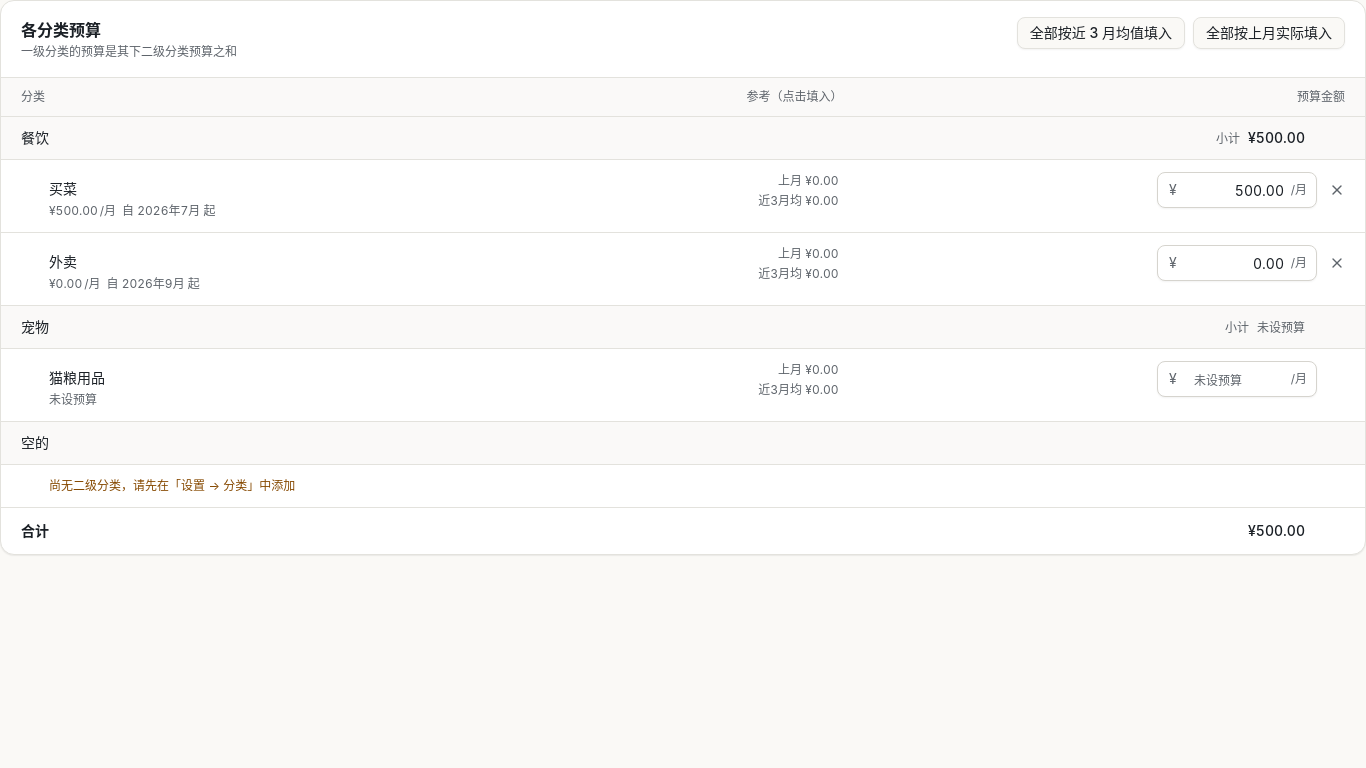
it: BudgetTable › flags an invalid amount and leaves it out of the request
The image size is (1366, 768).
Replace the text in the field named "「买菜」的预算金额" with "-5" at (1237, 190), box [1157, 172, 1317, 208]
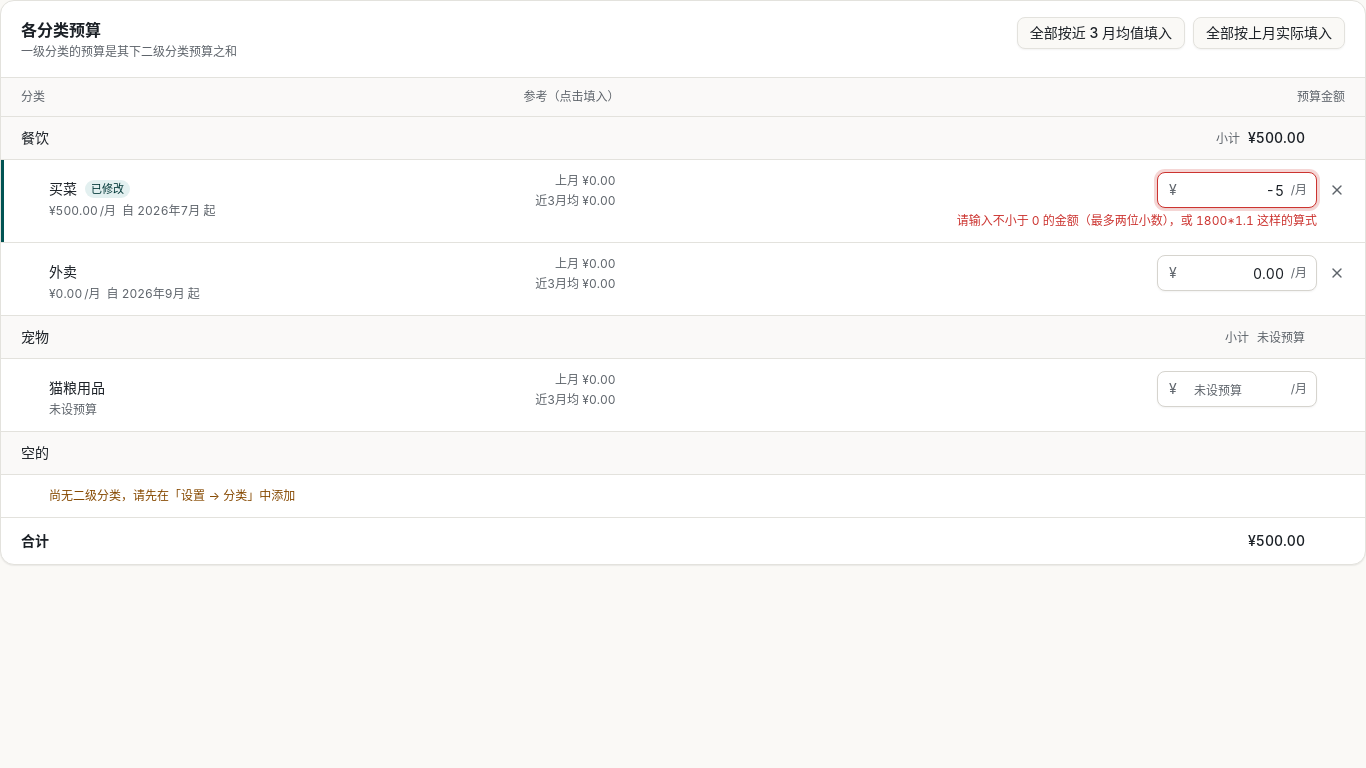
Expected: the text "请输入不小于 0 的金额（最多两位小数），或 1800*1.1 这样的算式" is shown, [957, 212, 1317, 230]
